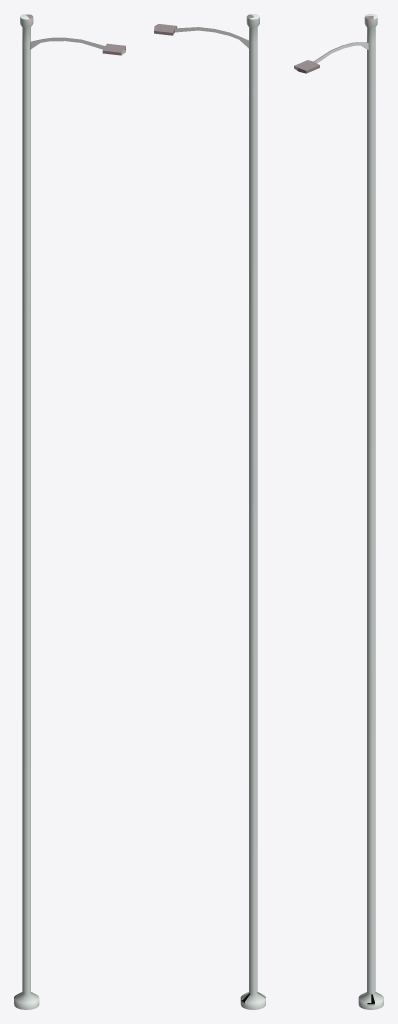
The model's file is light.FBX.
3 views of the same model, side by side, from view 1: azimuth 30°, elevation 25°; view 2: azimuth 210°, elevation 25°; view 3: azimuth 270°, elevation 25° (orthographic).
Parts seen in each view (by area): view 1: pCylinder1; view 2: pCylinder1; view 3: pCylinder1.
Part boxes in pixels (x1=…): pCylinder1: x1=14, y1=14, x2=125, y2=1009; pCylinder1: x1=154, y1=14, x2=265, y2=1009; pCylinder1: x1=294, y1=14, x2=383, y2=1009.
Size of the model in its own units: 49.42 by 601 by 49.42.
1 material, 1 textured.
